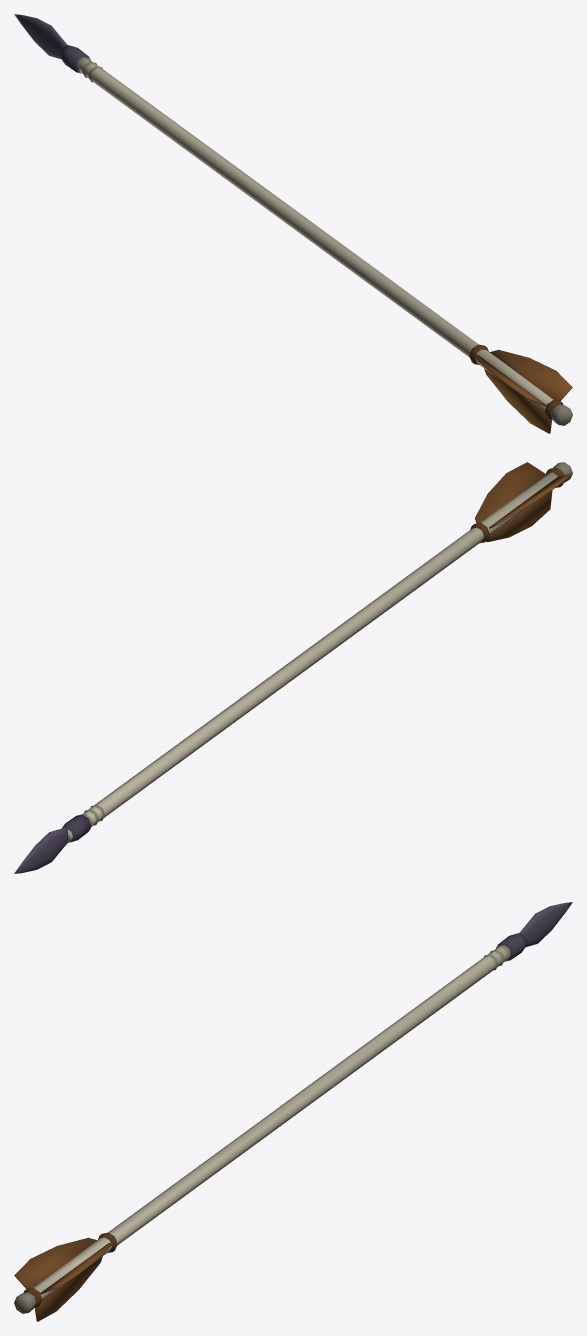
File: arrow_ash.glb
3 views of the same model, one above another, from view 1: azimuth 30°, elevation 25°; view 2: azimuth 150°, elevation 25°; view 3: azimuth 330°, elevation 25° (orthographic).
Visible parts, largest first — view 1: arrow_ash; view 2: arrow_ash; view 3: arrow_ash.
Boxes of the visible parts, x1=… form: arrow_ash: x1=14, y1=14, x2=572, y2=433; arrow_ash: x1=14, y1=462, x2=572, y2=873; arrow_ash: x1=14, y1=902, x2=572, y2=1321.
Size of what is drawn, in the model's own units: 0.0485 by 0.042 by 0.9.
